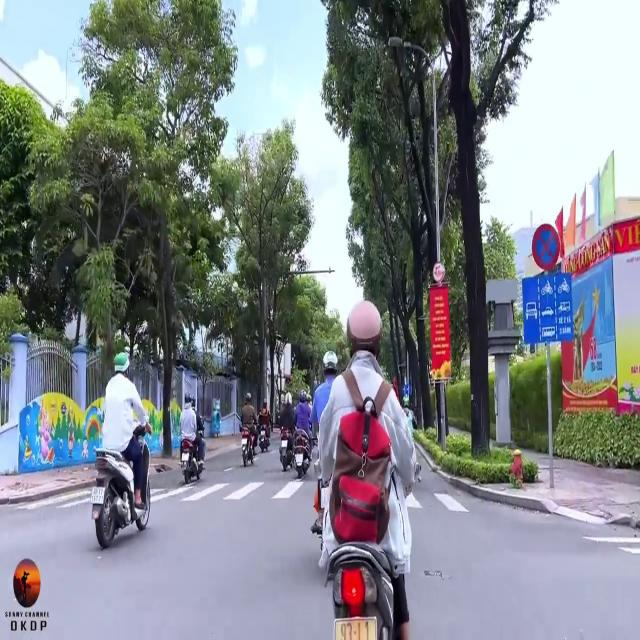bien_trang: (334, 621, 376, 640)
